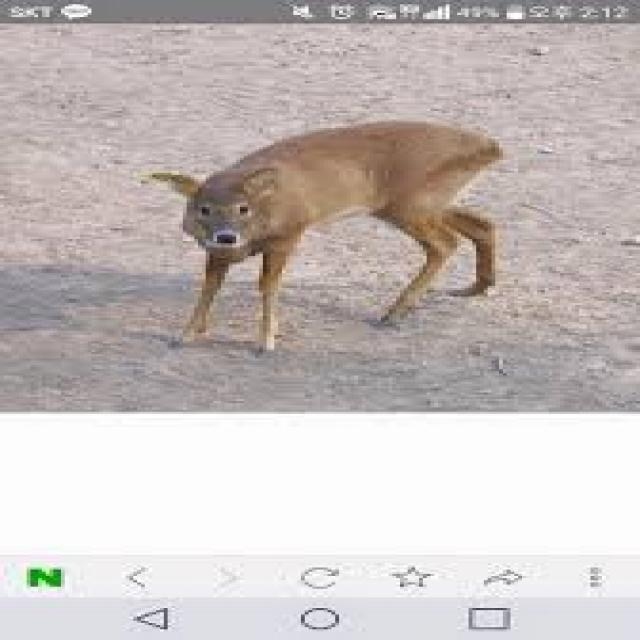elk: (102, 81, 549, 368)
